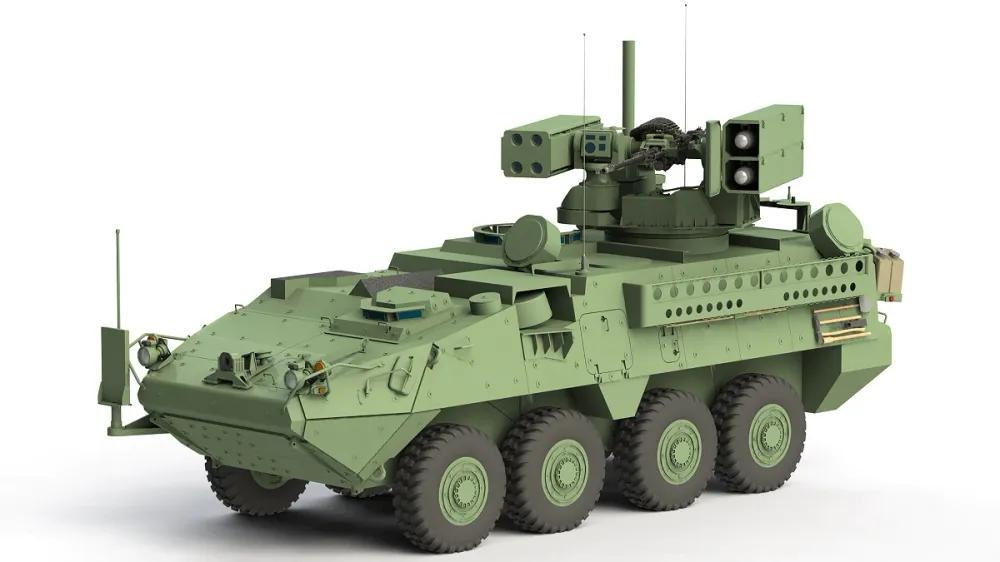MIL_IFV: (88, 33, 907, 553)
